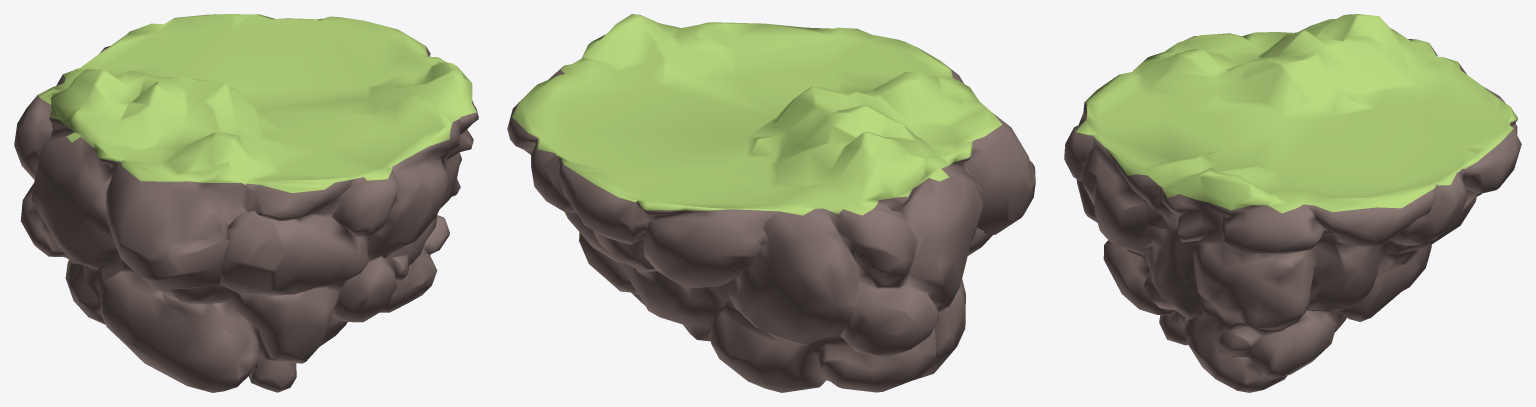
File: island2.fbx
3 renders of one model, left to right at view 1: azimuth 30°, elevation 25°; view 2: azimuth 150°, elevation 25°; view 3: azimuth 270°, elevation 25°, orthographic. The views are drawn at different scales.
Visible parts, largest first — view 1: Cylinder.013; view 2: Cylinder.013; view 3: Cylinder.013.
Boxes of the visible parts, x1,y1,x2,y2 form: Cylinder.013: (14, 14, 478, 392); Cylinder.013: (507, 14, 1035, 392); Cylinder.013: (1064, 14, 1521, 392).
Size of the model in its own units: 12.56 by 8.52 by 12.39.
